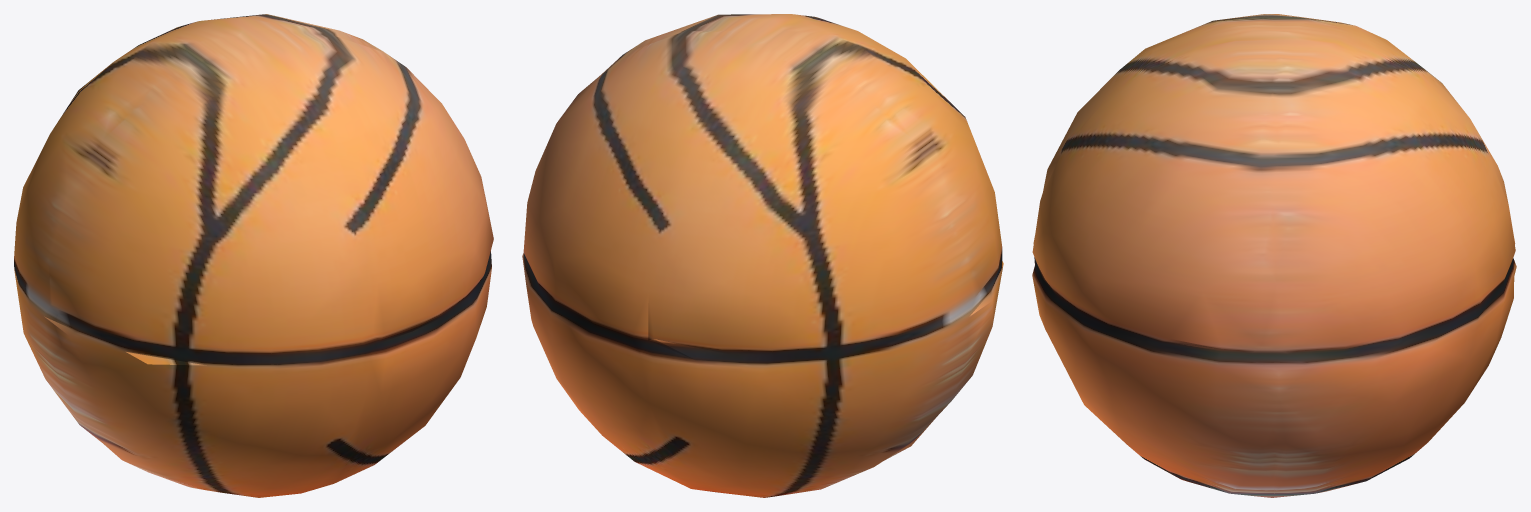
The picture shows the model from 3 angles, left to right: view 1: azimuth 30°, elevation 25°; view 2: azimuth 150°, elevation 25°; view 3: azimuth 270°, elevation 25°; orthographic projection.
Parts seen in each view (by area): view 1: Decor_gym_basketball; view 2: Decor_gym_basketball; view 3: Decor_gym_basketball.
Part boxes in pixels (<box>): Decor_gym_basketball: <box>14,14,493,497</box>; Decor_gym_basketball: <box>522,14,1003,497</box>; Decor_gym_basketball: <box>1032,14,1516,497</box>.
Bounding box in the file's own units: 0.239 × 0.24 × 0.2384.
Materials: 1 (1 with a texture image).
